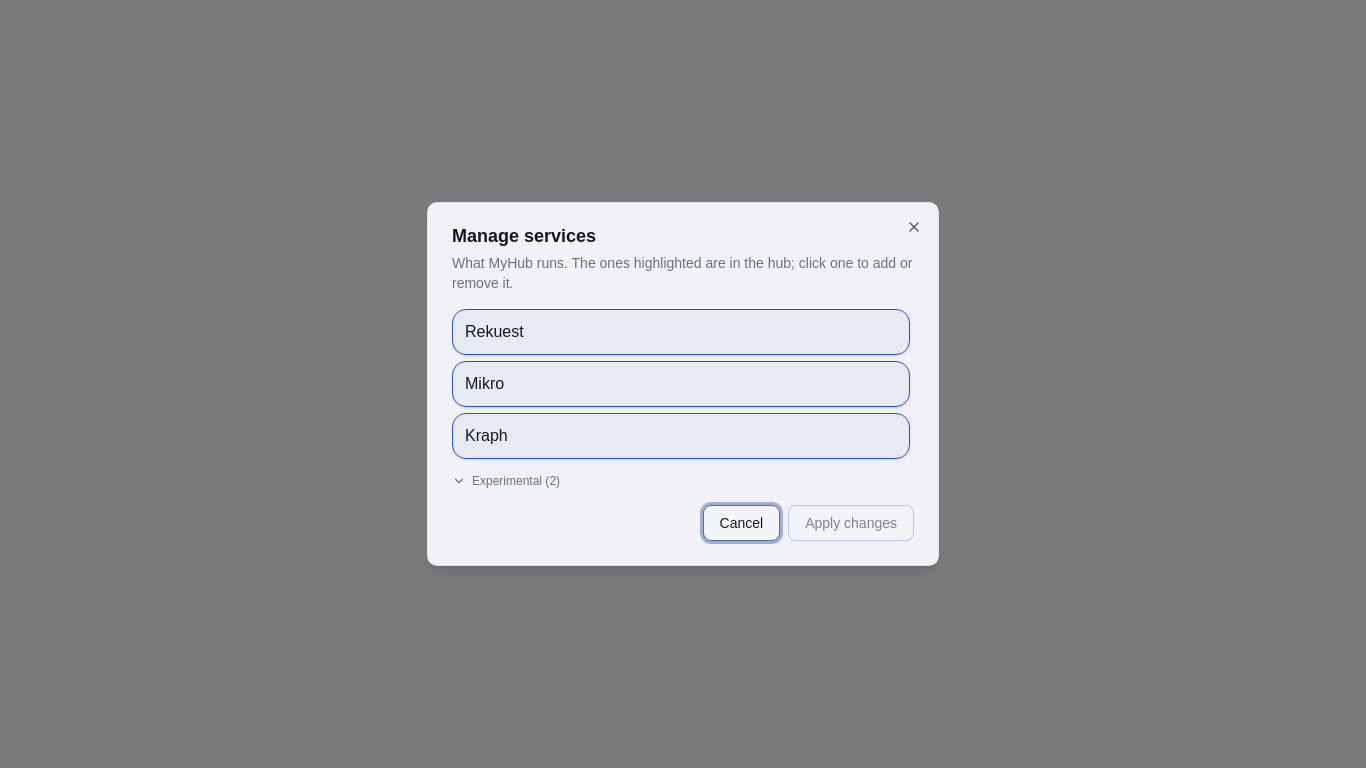
Test: ServicesDialog › summarises the change, says the data is kept, and asks the core about it
Expected: the text "Mikro" is shown, x1=465 y1=372 x2=504 y2=396
Click the text "Kraph". click: (486, 436)
box: x1=465 y1=424 x2=508 y2=448
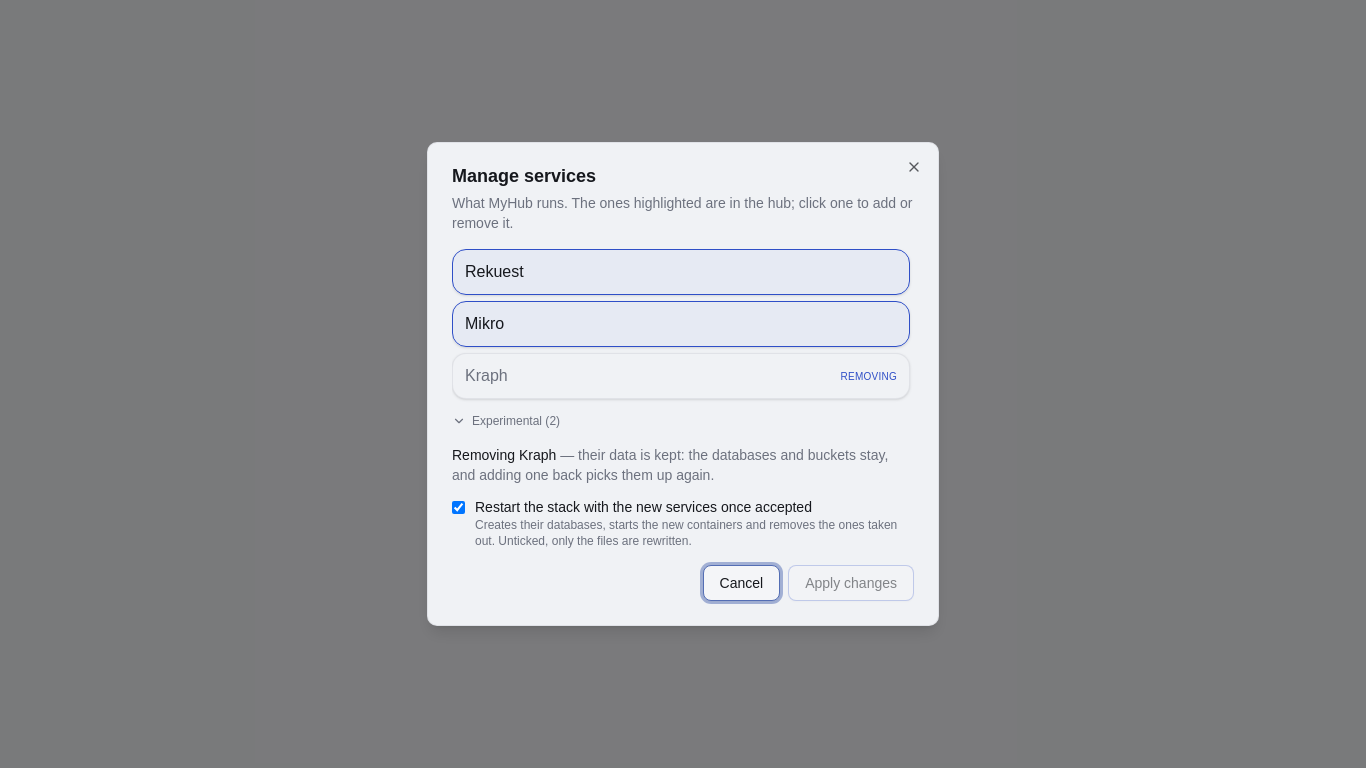
Click the button "Experimental (2)". click: (506, 421)
box: x1=452 y1=413 x2=560 y2=429
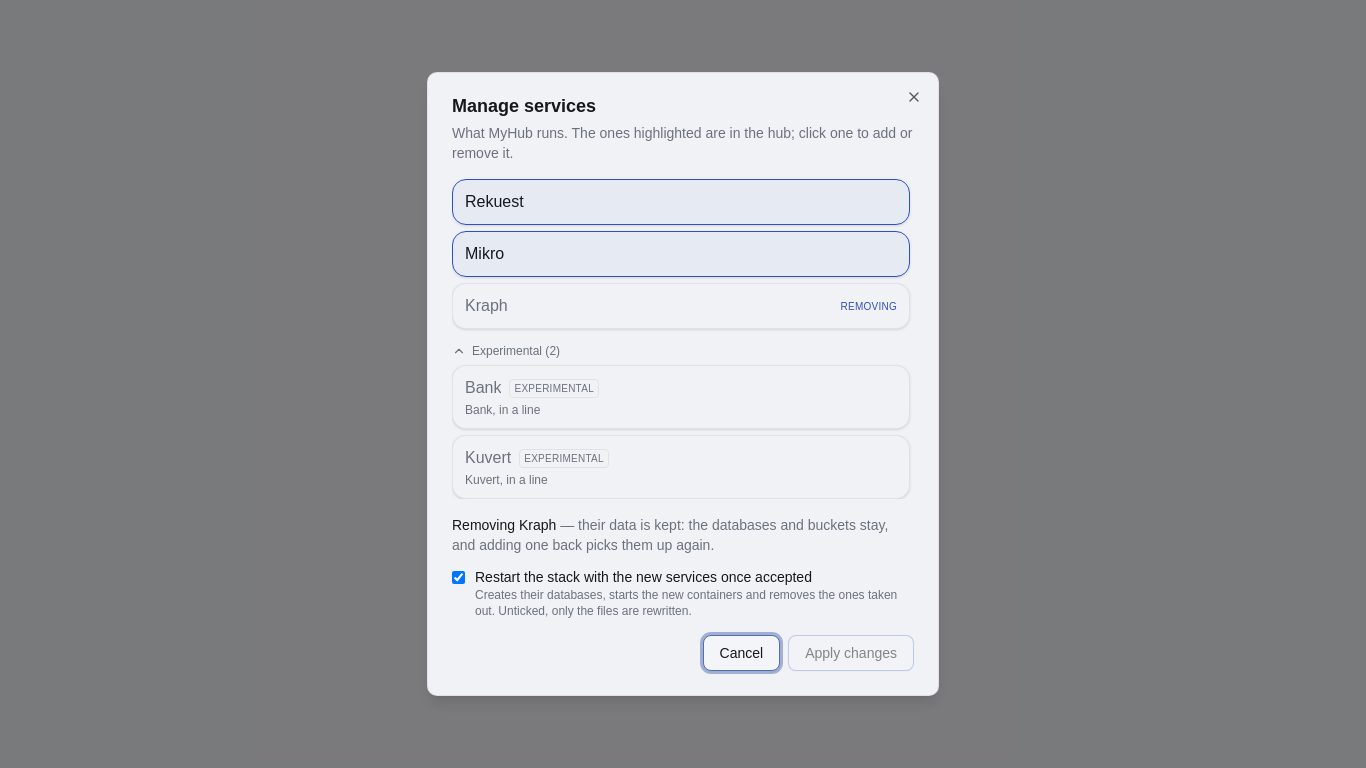
Click the text "Bank". click: (483, 388)
box: x1=465 y1=376 x2=502 y2=400
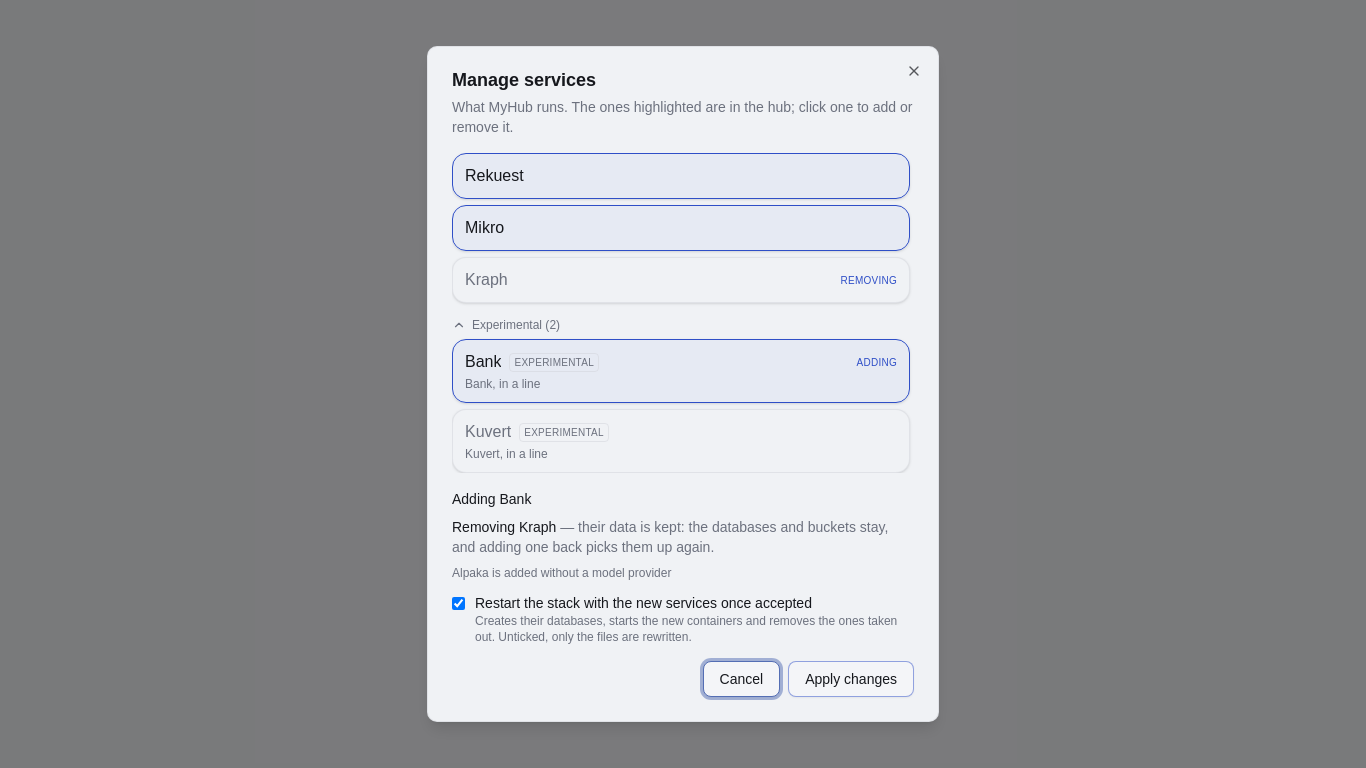
Now the element with test id "service-diff" shows "Removing Kraph", box x1=452 y1=519 x2=556 y2=535
Now the element with test id "service-diff" shows "data is kept", box x1=452 y1=519 x2=888 y2=555
Now the element with test id "service-diff" shows "Adding Bank", box x1=452 y1=491 x2=531 y2=507
Note: Ticking it back undoes the change entirely.
Click the text "Kraph". click: (486, 280)
box: x1=465 y1=268 x2=508 y2=292
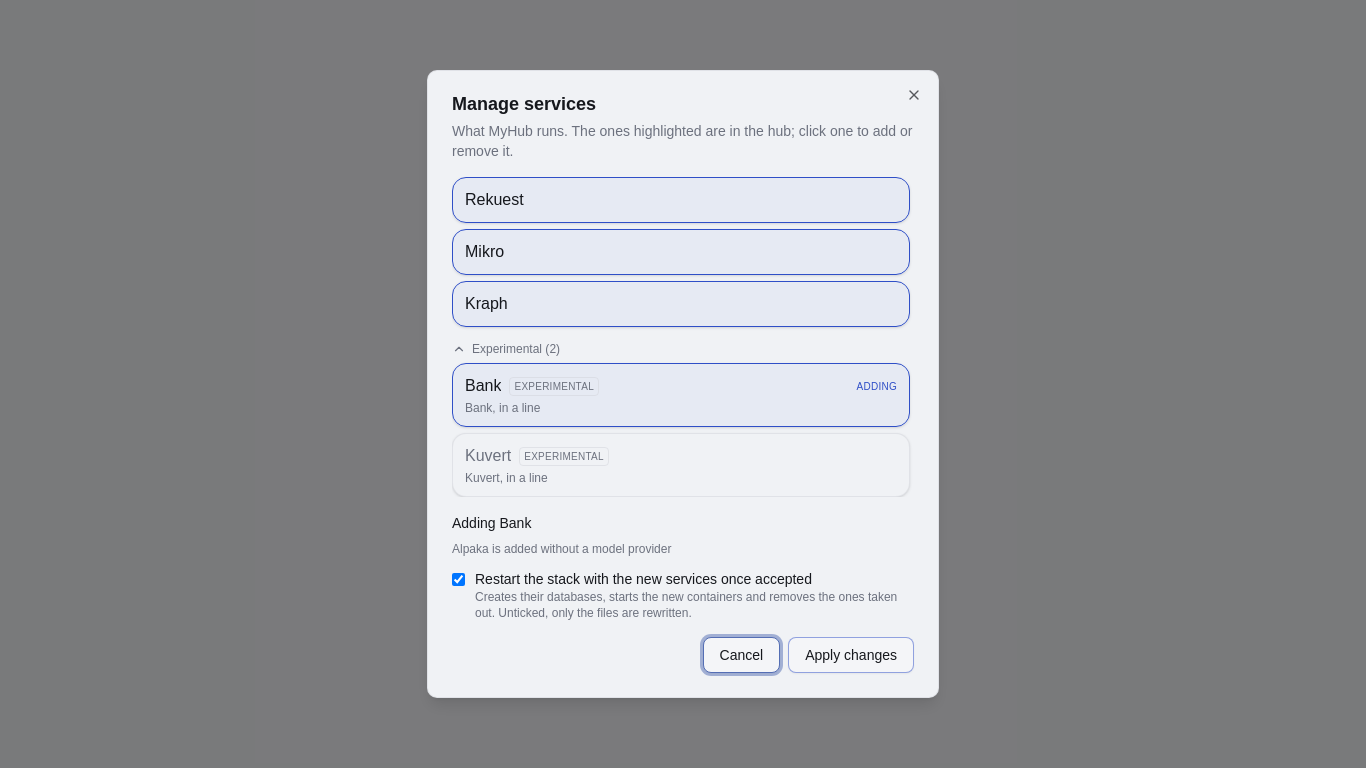
Click the text "Bank". click: (483, 386)
box: x1=465 y1=374 x2=502 y2=398
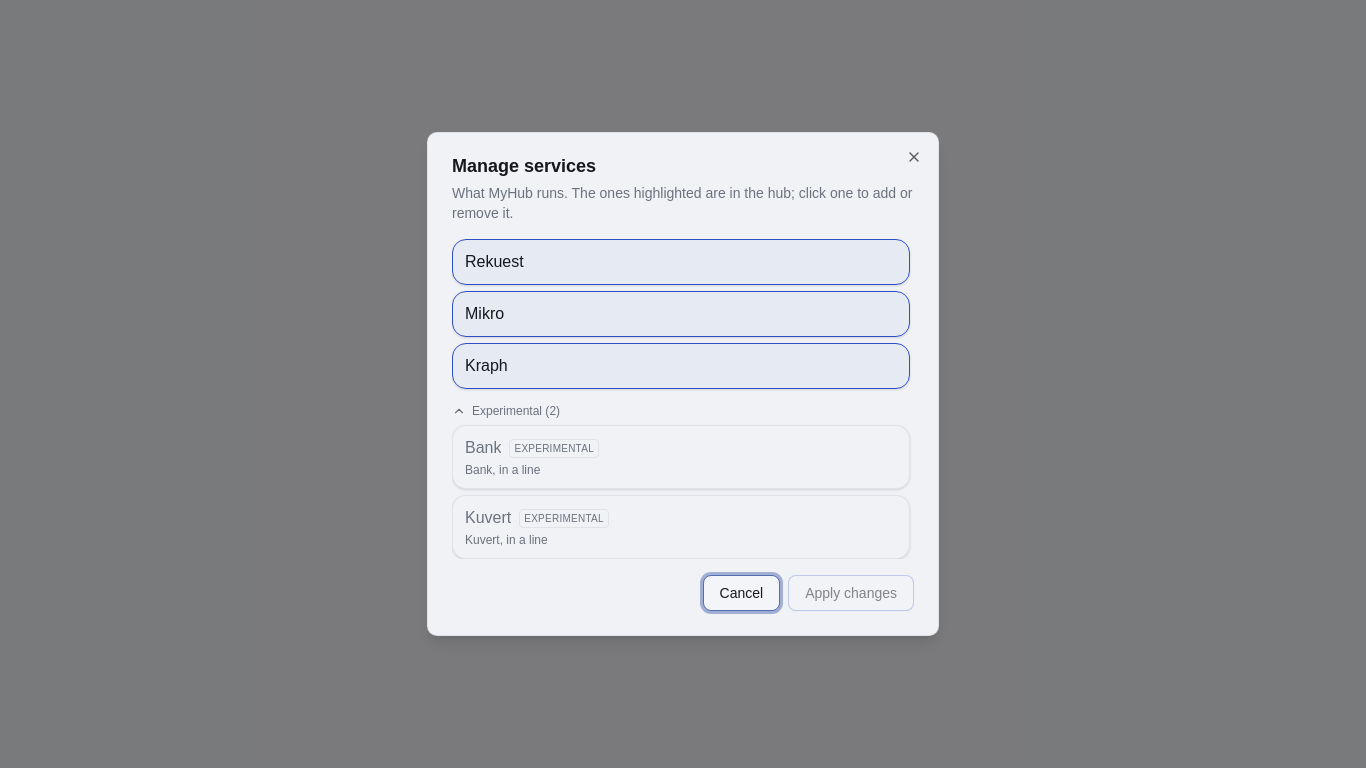
Now the element with test id "service-diff" is gone
